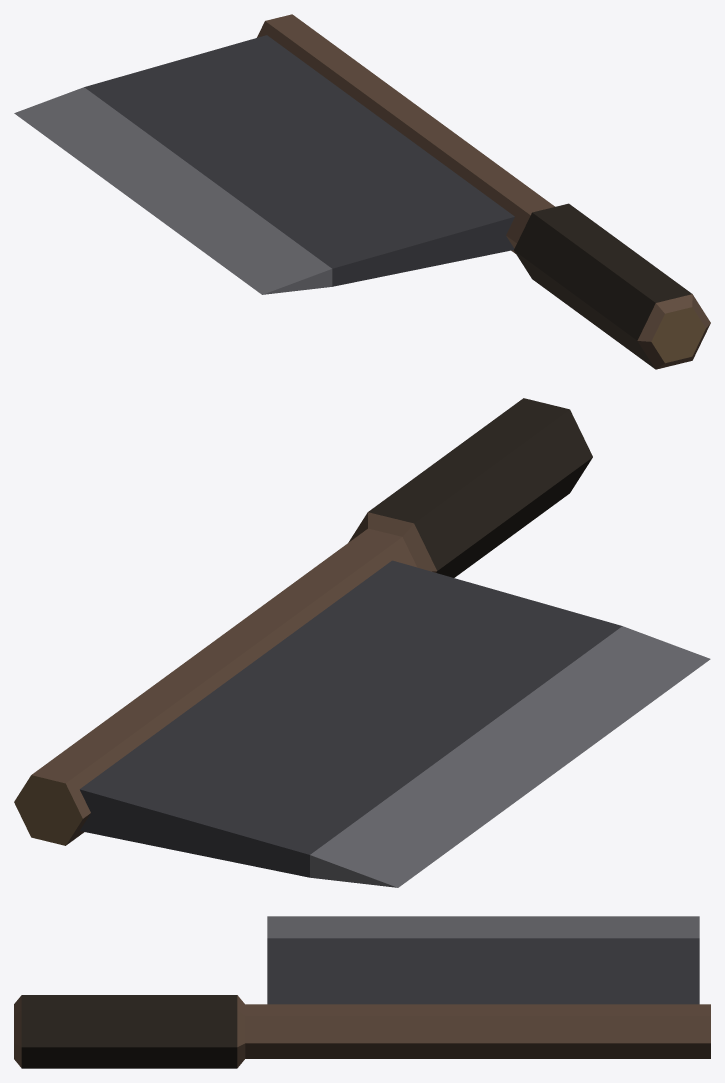
File: Knife.fbx
The picture shows the model from 3 angles, top to bottom: view 1: azimuth 30°, elevation 25°; view 2: azimuth 150°, elevation 25°; view 3: azimuth 270°, elevation 25°; orthographic projection. The views are drawn at different scales.
Visible parts, largest first — view 1: polySurface2949; view 2: polySurface2949; view 3: polySurface2949.
Part boxes in pixels (x1=…): polySurface2949: x1=14, y1=14, x2=710, y2=369; polySurface2949: x1=14, y1=398, x2=710, y2=887; polySurface2949: x1=14, y1=916, x2=710, y2=1068.
Size of the model in its own units: 17.89 by 3.7 by 40.26.
